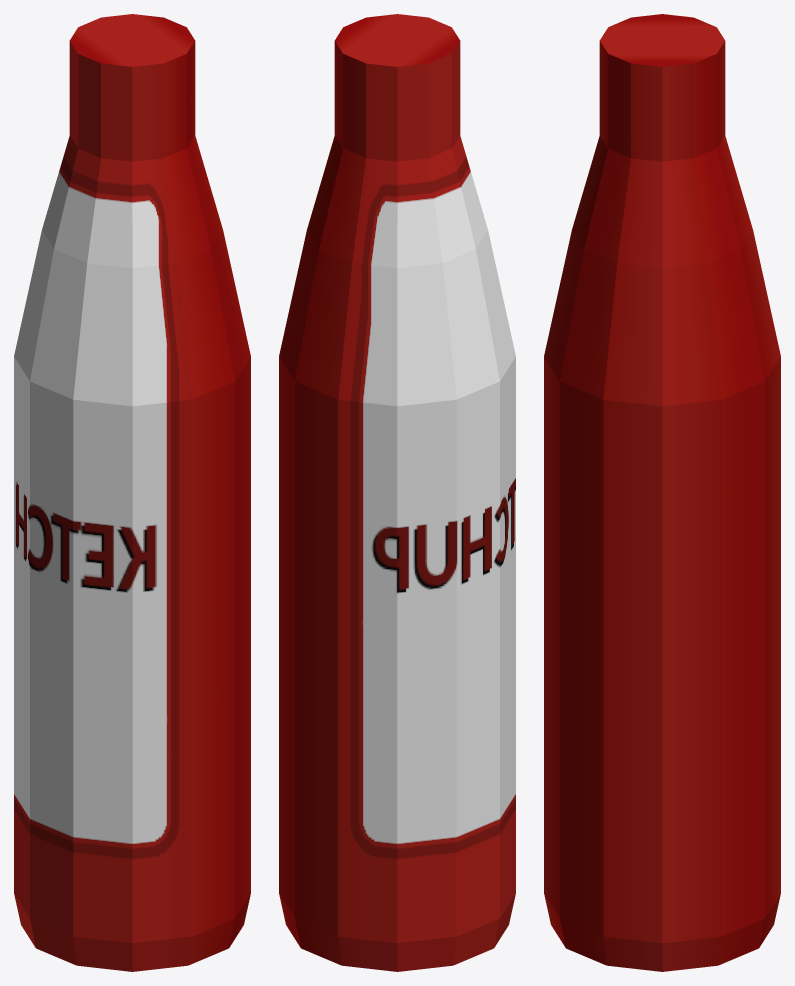
File: fridge_ketchup.obj
3 renders of one model, left to right at view 1: azimuth 30°, elevation 25°; view 2: azimuth 150°, elevation 25°; view 3: azimuth 270°, elevation 25°, orthographic.
Visible parts, largest first — view 1: fridge_ketchup; view 2: fridge_ketchup; view 3: fridge_ketchup.
Boxes of the visible parts, x1=… form: fridge_ketchup: x1=14, y1=14, x2=250, y2=971; fridge_ketchup: x1=279, y1=14, x2=515, y2=971; fridge_ketchup: x1=544, y1=14, x2=780, y2=971.
Bounding box in the file's own units: 0.068 × 0.28 × 0.068.
Materials: 1 (1 with a texture image).
